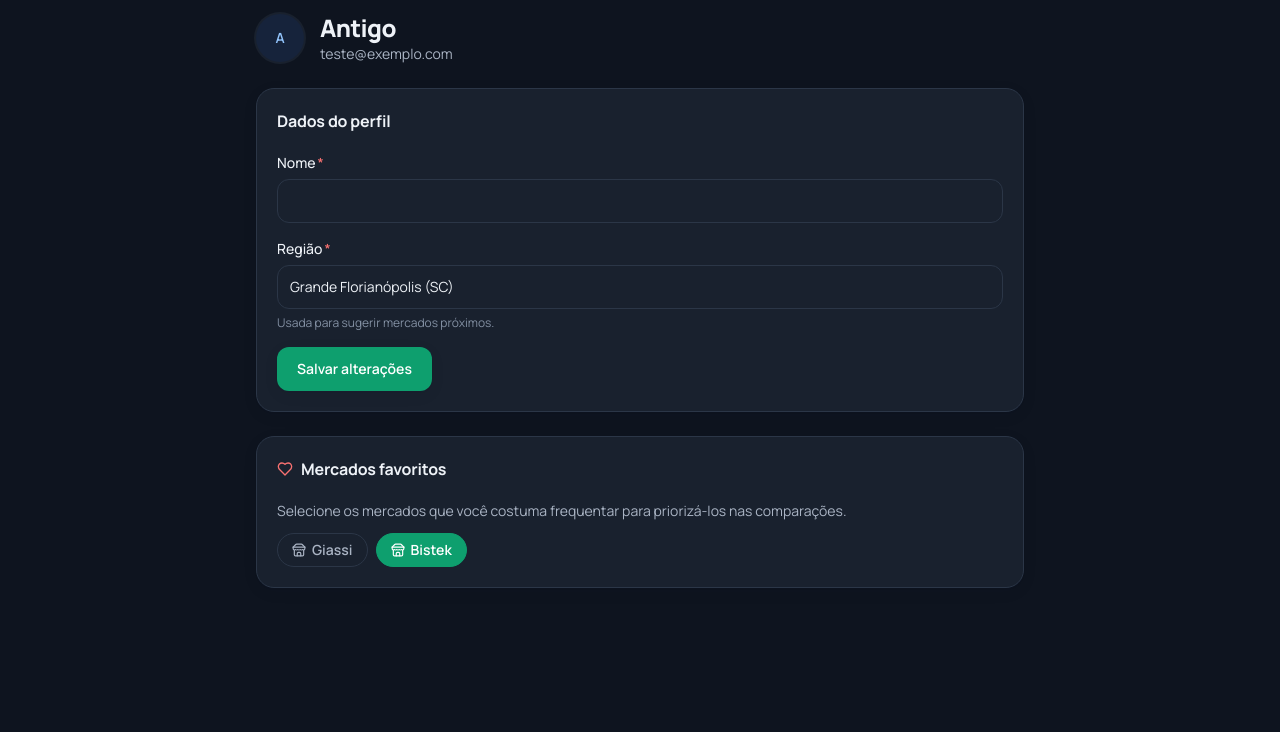
Test: ProfilePage — atualização de perfil › mostra erro e mantém o formulário quando a API falha
Type "Falha" into the field labelled "Nome*" at (640, 201), box x1=277 y1=179 x2=1003 y2=223
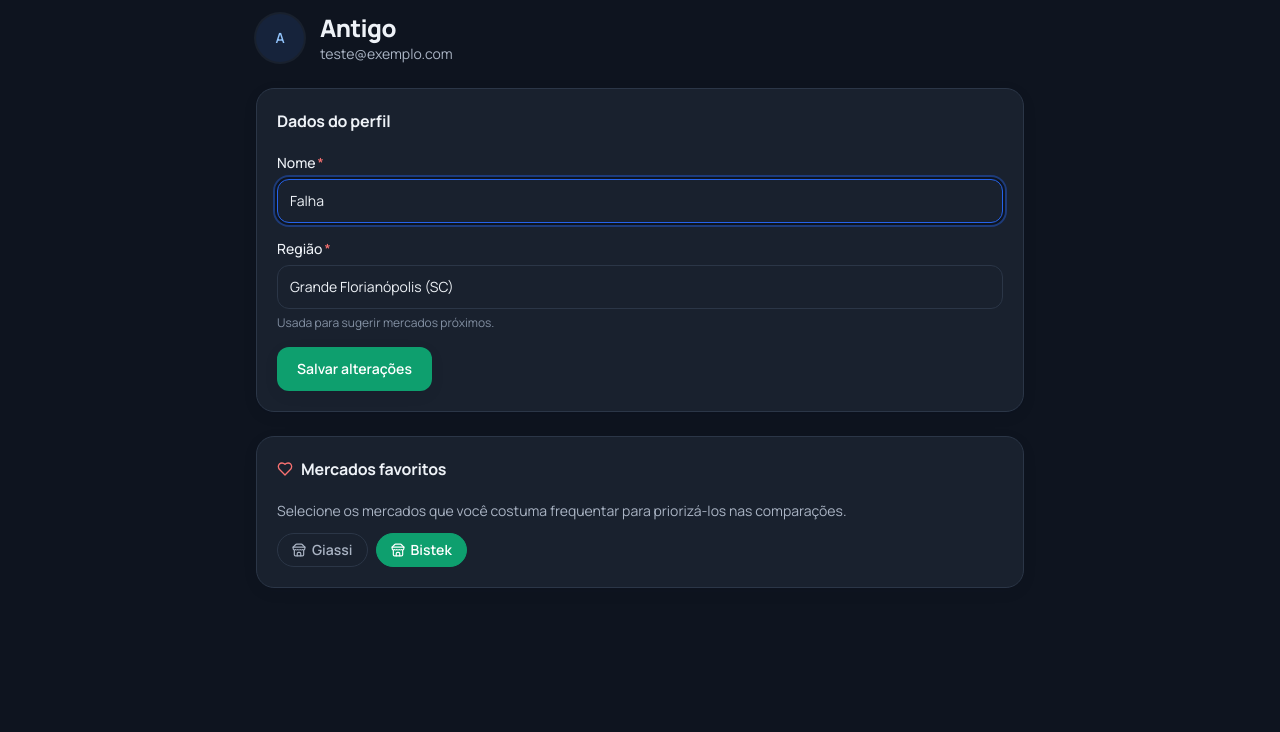
Type "Sul" into the field labelled "Região*" at (640, 287), box x1=277 y1=265 x2=1003 y2=309
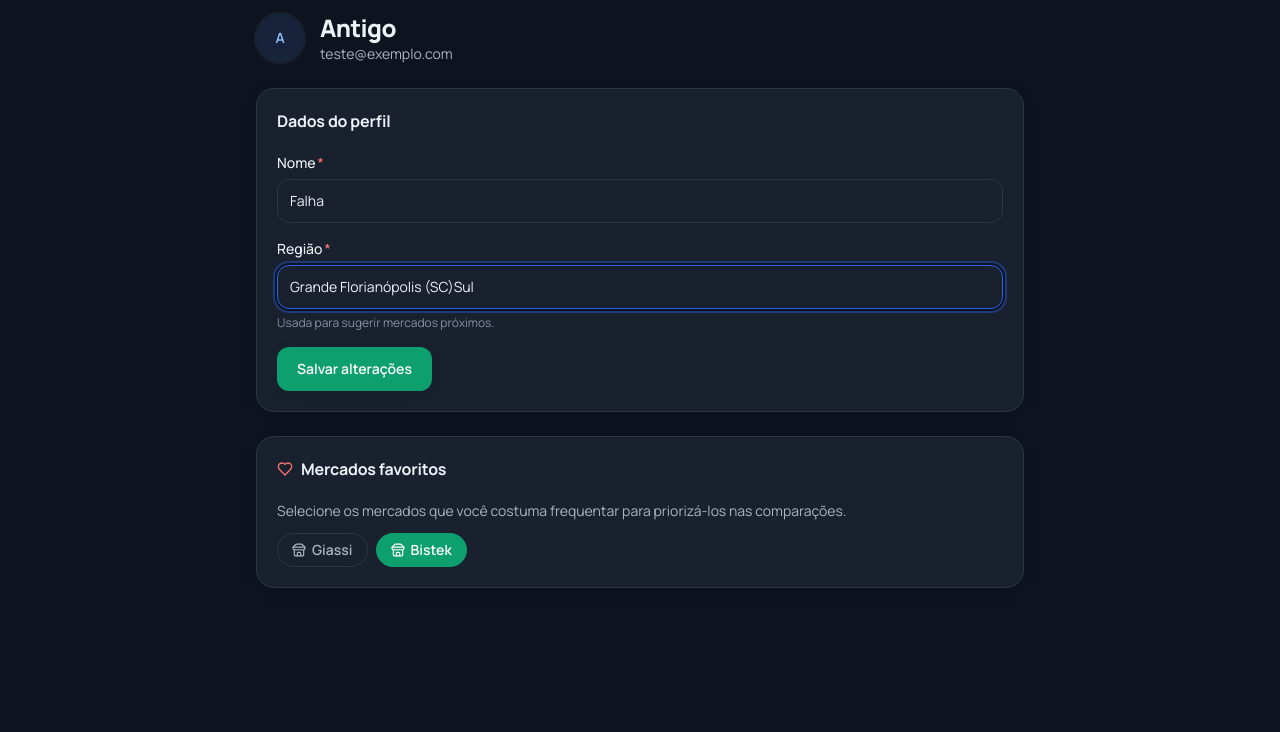
Click the button "Salvar alterações" at (354, 369), box x1=277 y1=347 x2=432 y2=391
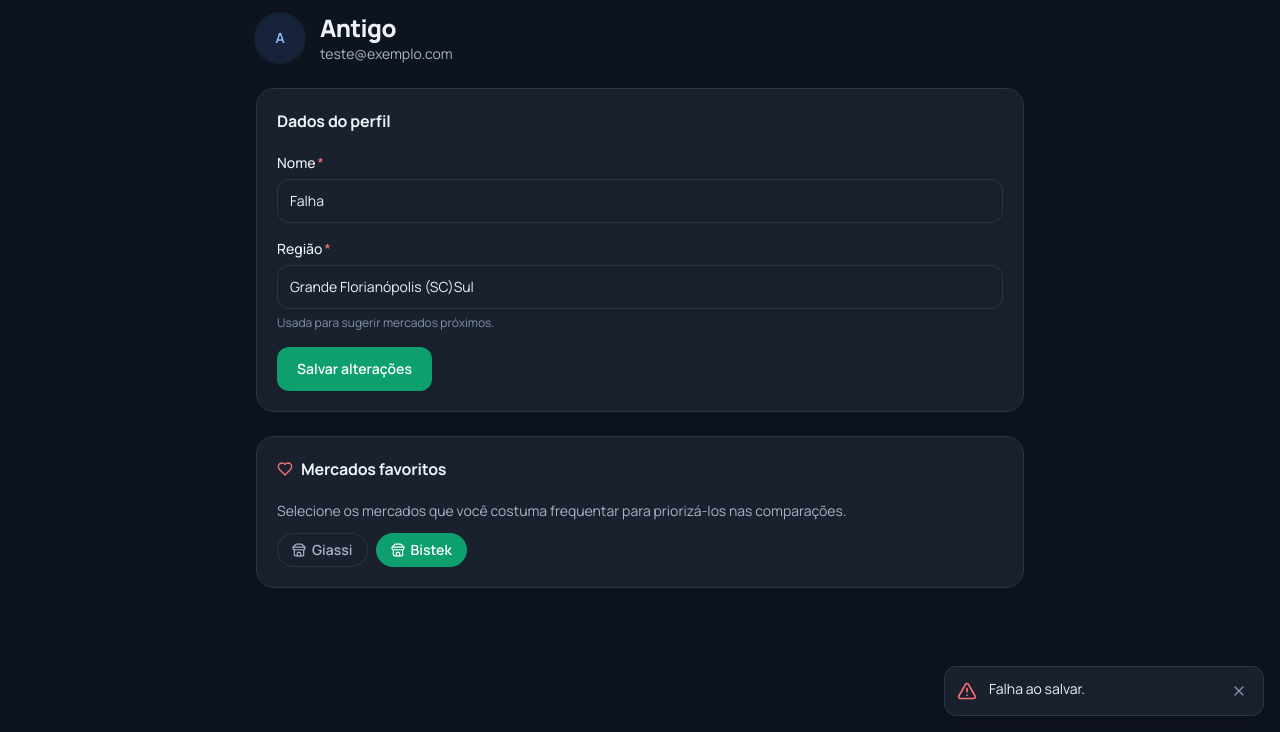
Check: the text "Falha ao salvar." is shown, box x1=989 y1=679 x2=1085 y2=698
